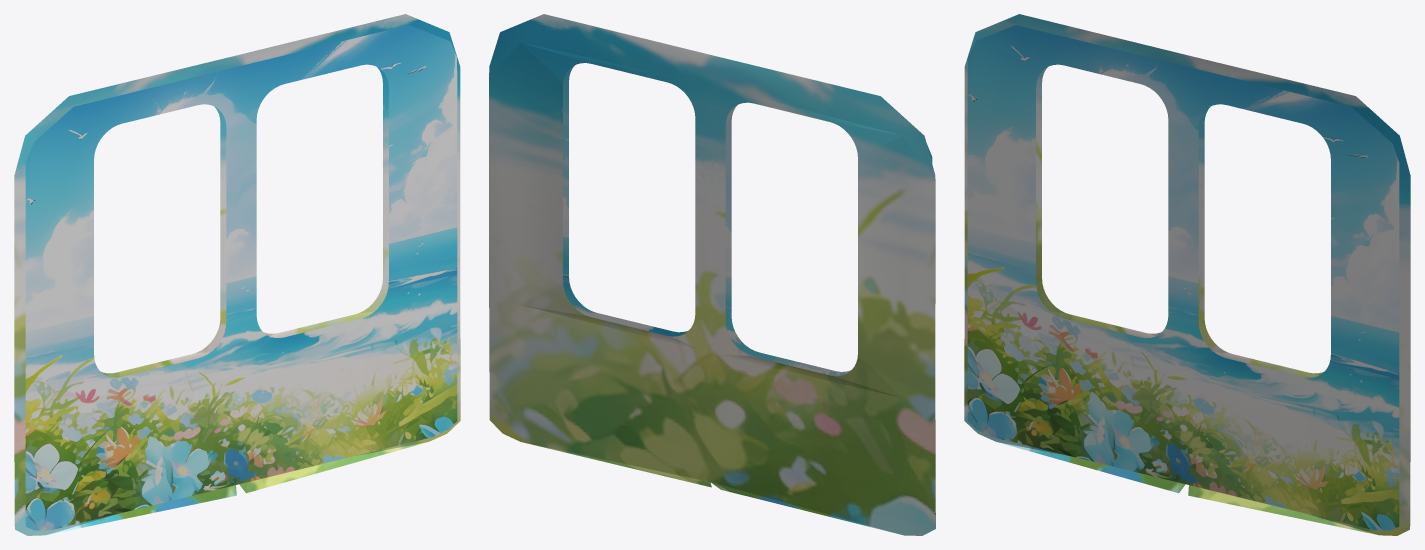
File: g_subway_frontdoor_mod.fbx
The picture shows the model from 3 angles, left to right: view 1: azimuth 30°, elevation 25°; view 2: azimuth 150°, elevation 25°; view 3: azimuth 330°, elevation 25°; orthographic projection.
Visible parts, largest first — view 1: g_subway_frontdoor_mod; view 2: g_subway_frontdoor_mod; view 3: g_subway_frontdoor_mod.
Boxes of the visible parts, left/top/right/bottom form: g_subway_frontdoor_mod: left=14, top=14, right=460, bottom=535; g_subway_frontdoor_mod: left=489, top=14, right=935, bottom=535; g_subway_frontdoor_mod: left=964, top=14, right=1410, bottom=535.
Bounding box in the file's own units: 239 × 5.53 × 224.
